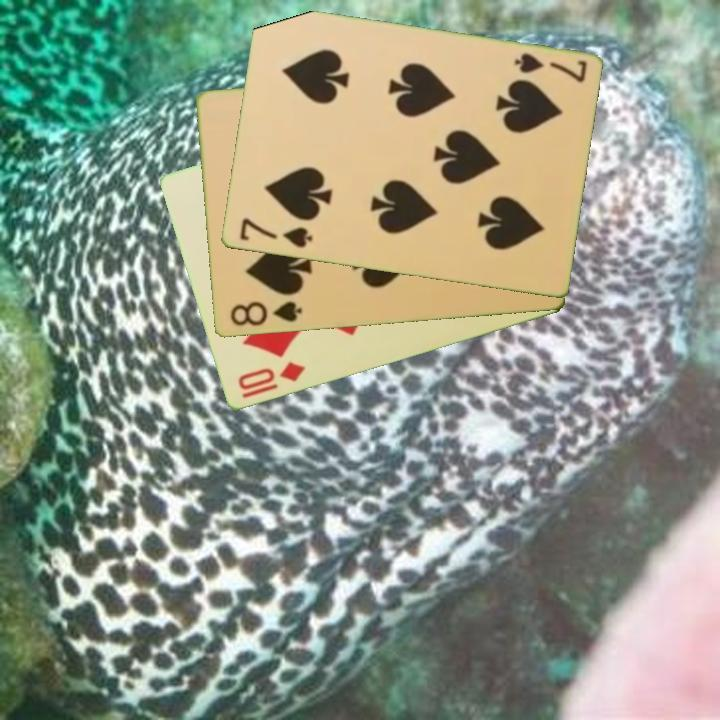10d: (234, 358, 309, 394)
7s: (510, 49, 590, 86), (236, 215, 315, 252)
8s: (226, 298, 305, 330)
